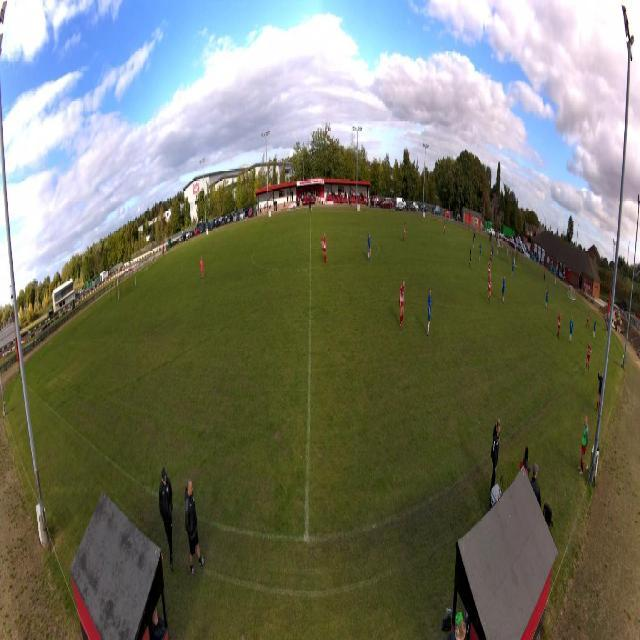player: (399, 279, 406, 329), (427, 286, 432, 338), (500, 274, 506, 305), (556, 311, 562, 341), (322, 233, 327, 265), (487, 273, 492, 304), (569, 315, 574, 346), (367, 231, 372, 261), (200, 254, 205, 280), (488, 259, 492, 285), (469, 244, 473, 269), (545, 287, 549, 311), (593, 316, 597, 338), (403, 221, 407, 243), (586, 309, 590, 330), (511, 259, 515, 279), (479, 242, 482, 262), (491, 243, 494, 261), (506, 246, 509, 263), (443, 220, 446, 236), (473, 233, 475, 250), (490, 246, 492, 262)
